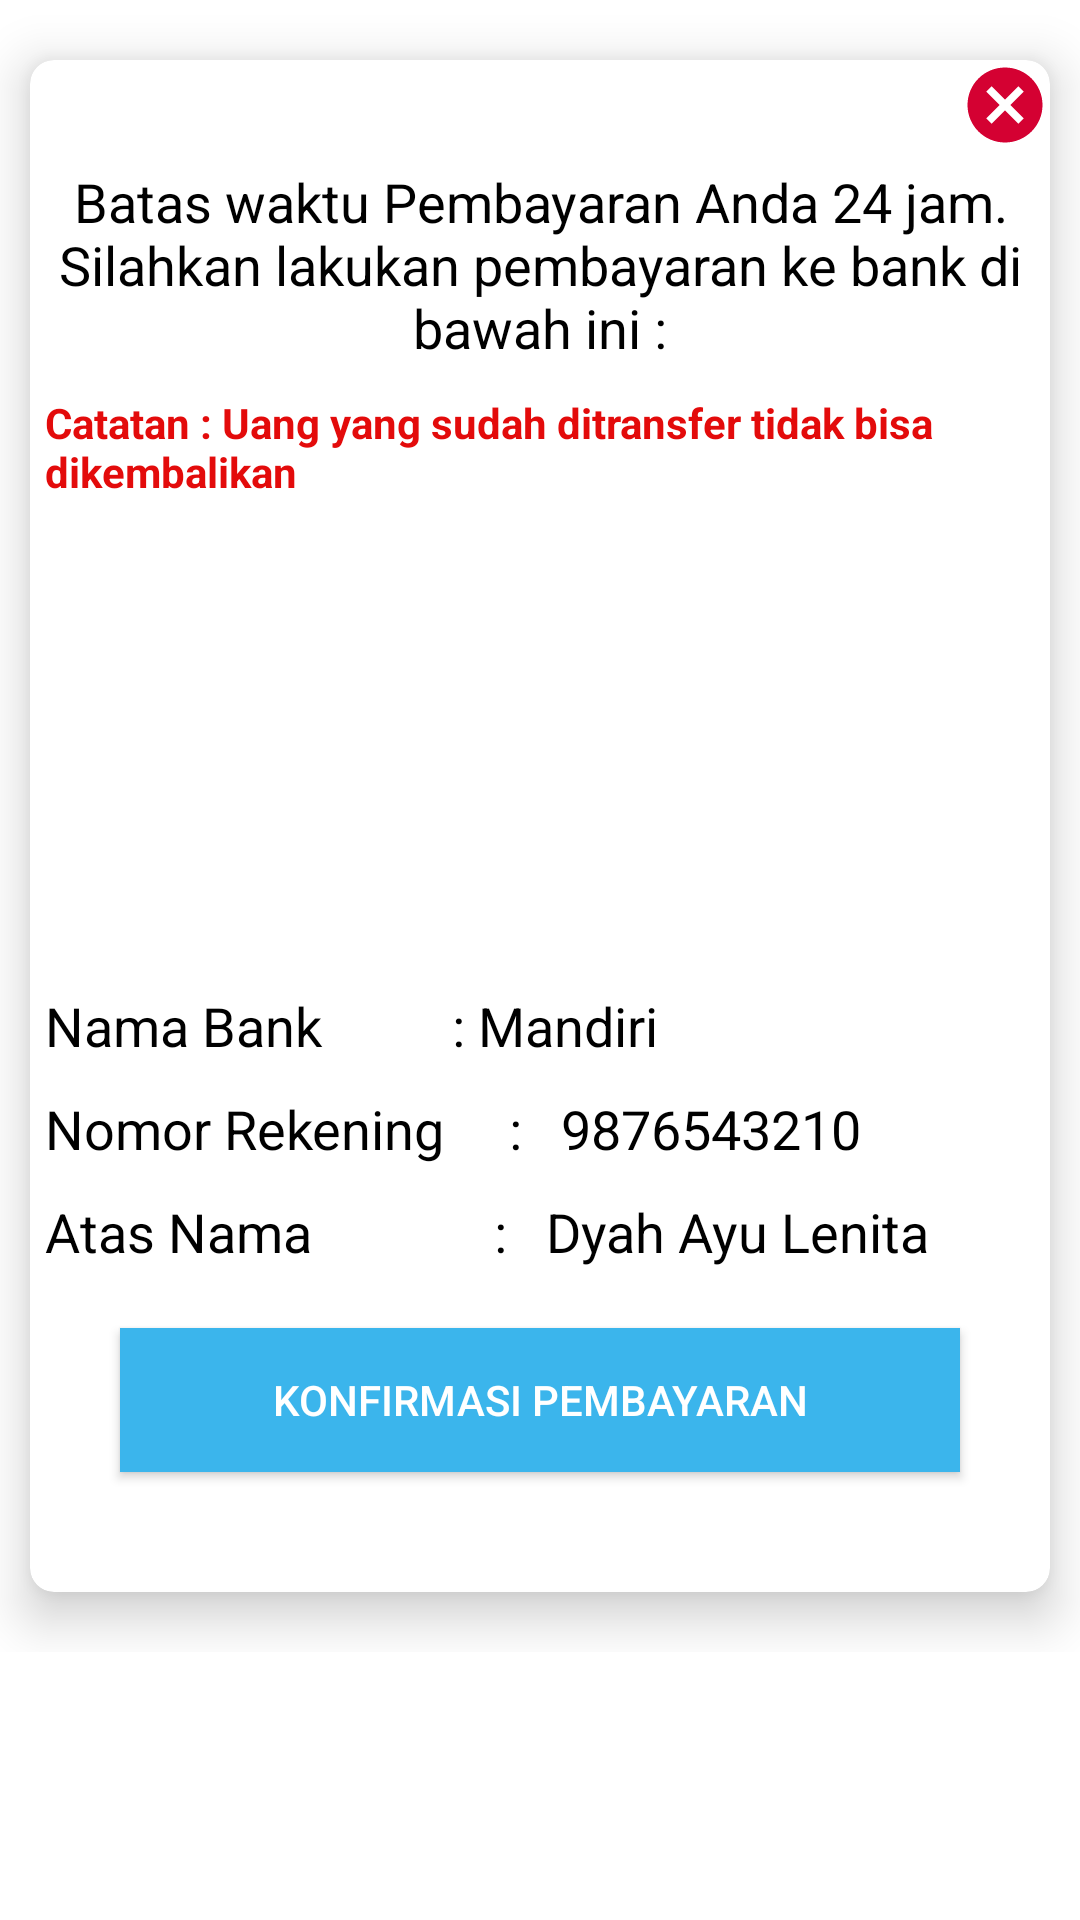

Where icons sit on this 1080 × 1920 app screen, as region(x1, y1, x2, y2):
cancel: region(967, 67, 1043, 143)
